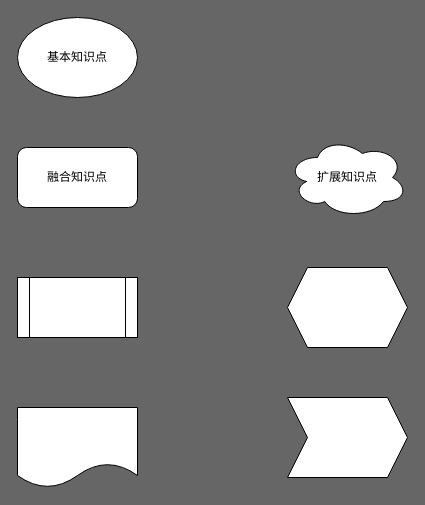
Some shapes in this 425 by 505 pixel diagram are drawn without their labels. Here are the shapes that lost their labels. From the top down, the centre of each, then its label:
the point at 77,307: 贯穿知识点讲解
the point at 77,447: blog文档
